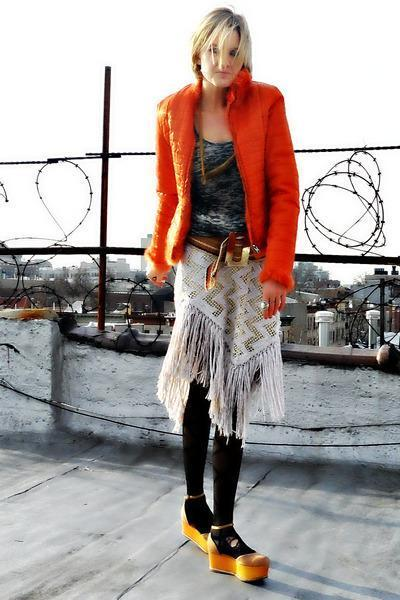jacket: (132, 63, 307, 288)
shirt: (189, 132, 246, 235)
shoe: (183, 520, 269, 587)
skirt: (156, 243, 299, 443)
